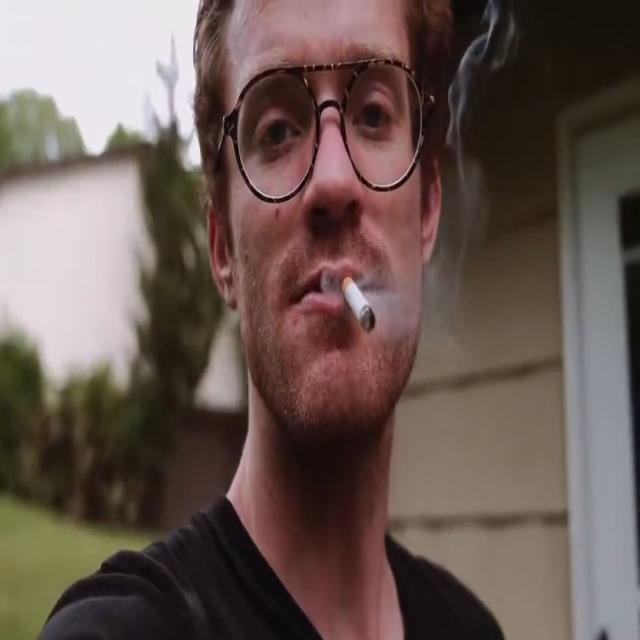Курение: (339, 273, 376, 334)
